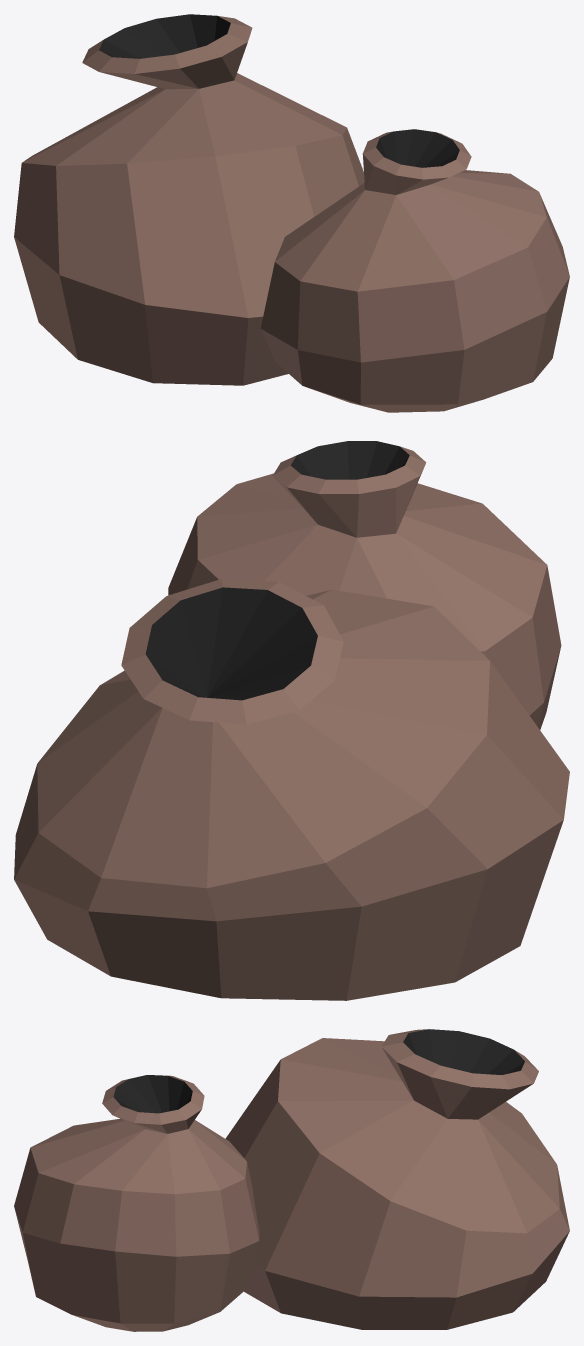
The model's file is props_031.glb.
The picture shows the model from 3 angles, top to bottom: view 1: azimuth 30°, elevation 25°; view 2: azimuth 150°, elevation 25°; view 3: azimuth 270°, elevation 25°; orthographic projection. The views are drawn at different scales.
Visible parts, largest first — view 1: props_031; view 2: props_031; view 3: props_031.
Boxes of the visible parts, bbox=[...] form: props_031: bbox=[14, 14, 569, 412]; props_031: bbox=[14, 441, 569, 1000]; props_031: bbox=[14, 1029, 569, 1331].
Bounding box in the file's own units: 1.33 × 0.9269 × 1.83.
Materials: 1 (1 with a texture image).
